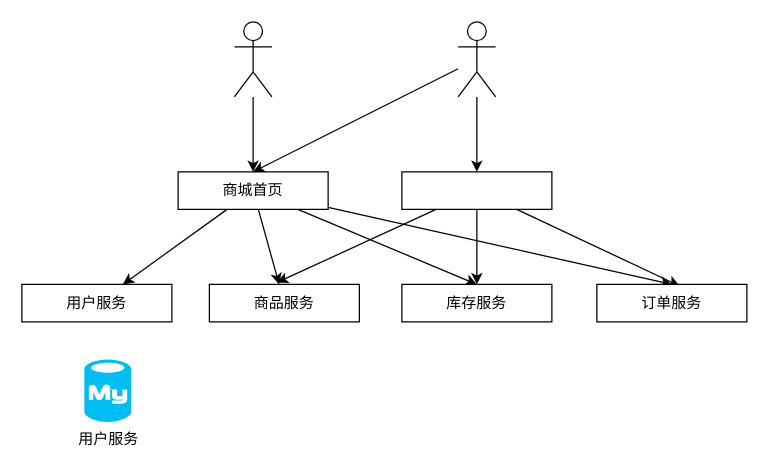
Image size: 769x470. Some labels were removed from this diagram. Here are the shapes that lost their labels. From the top down, the centre of each, then its label:
pixel 252 59: 用户
pixel 476 59: 后台人员
pixel 476 190: 后台系统
